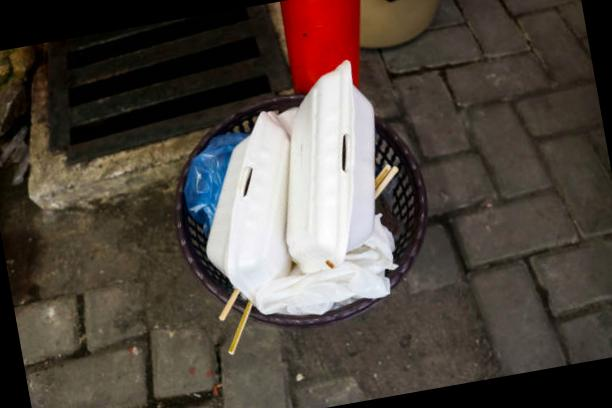trash: (270, 77, 404, 267), (177, 125, 302, 293), (210, 232, 409, 333)
trash_can_overflow: (154, 46, 434, 344)
